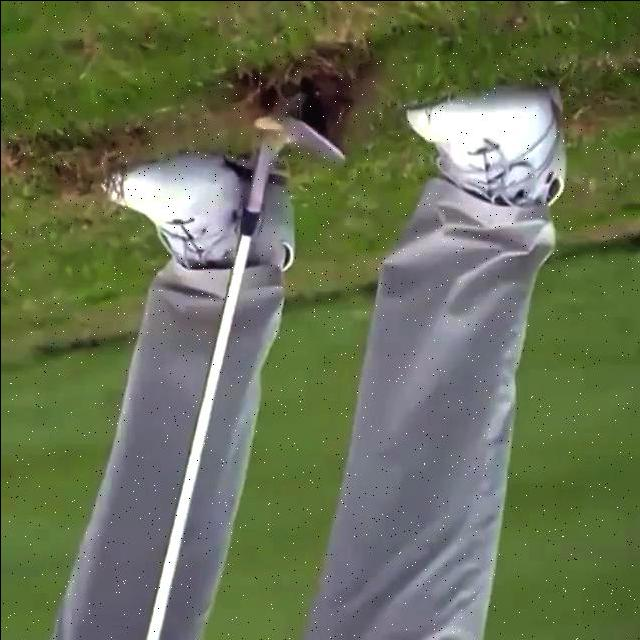ClubHandle: (150, 109, 350, 640)
ClubHead: (262, 109, 350, 161)
